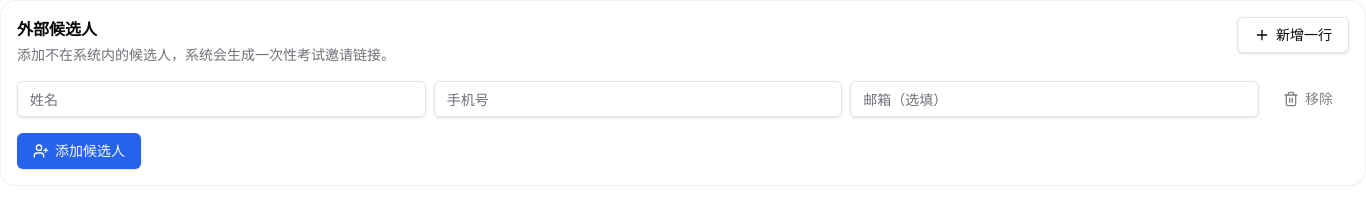
Test: ExternalCandidateImport › validates phone before submit
Click the button "添加候选人".
click(79, 151)  # box [17, 133, 141, 169]
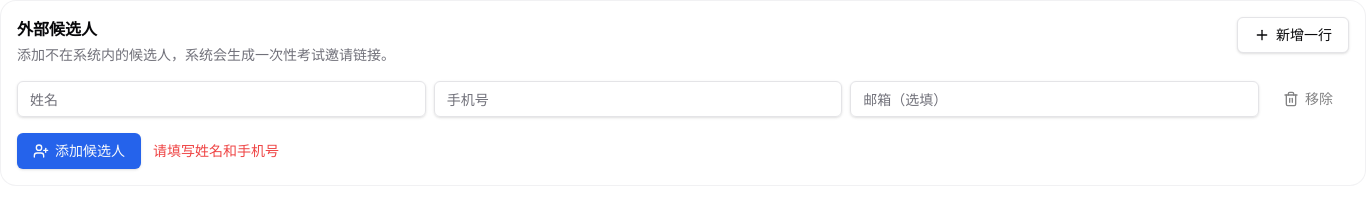
Expected: the text "请填写姓名和手机号" is shown, [153, 141, 279, 161]
